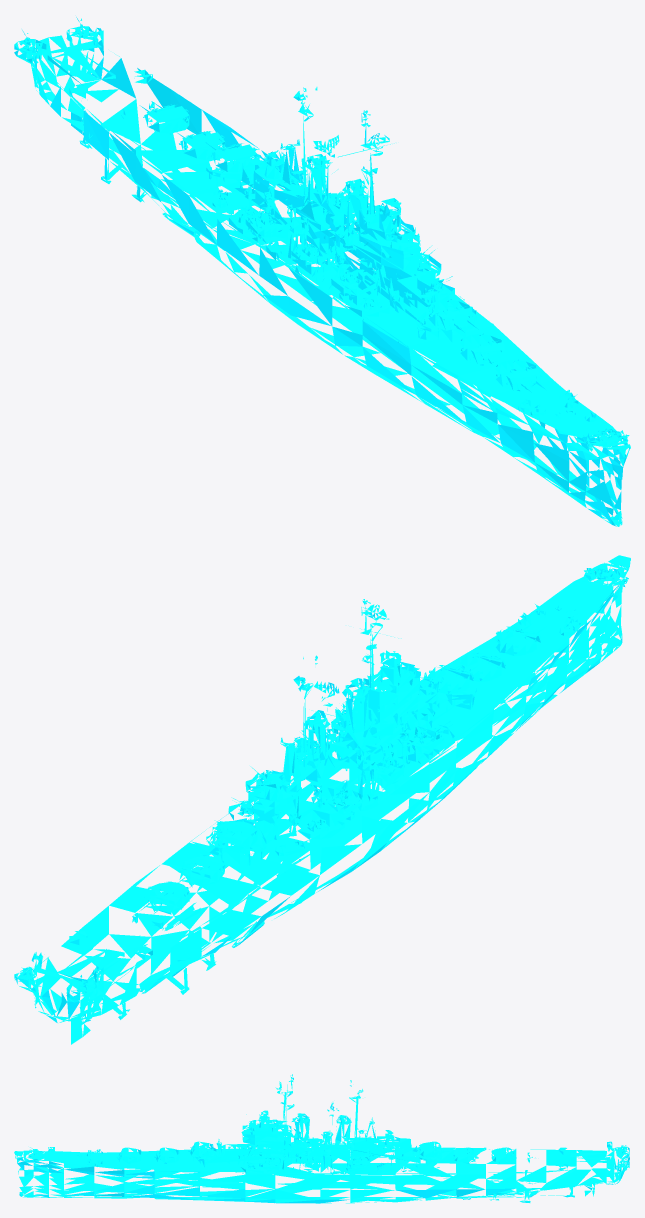
File: Worcester.glb
3 renders of one model, top to bottom at view 1: azimuth 30°, elevation 25°; view 2: azimuth 150°, elevation 25°; view 3: azimuth 270°, elevation 25°, orthographic. The views are drawn at different scales.
Size of the model in its own units: 1.45 by 3.05 by 13.81.
